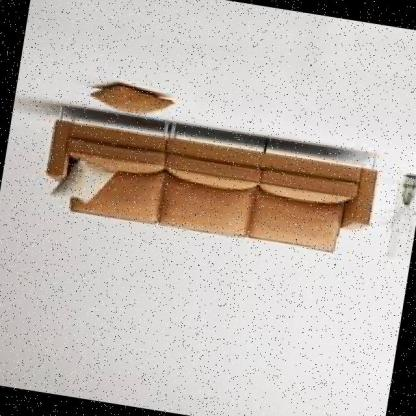Sofa: (27, 71, 401, 290)
